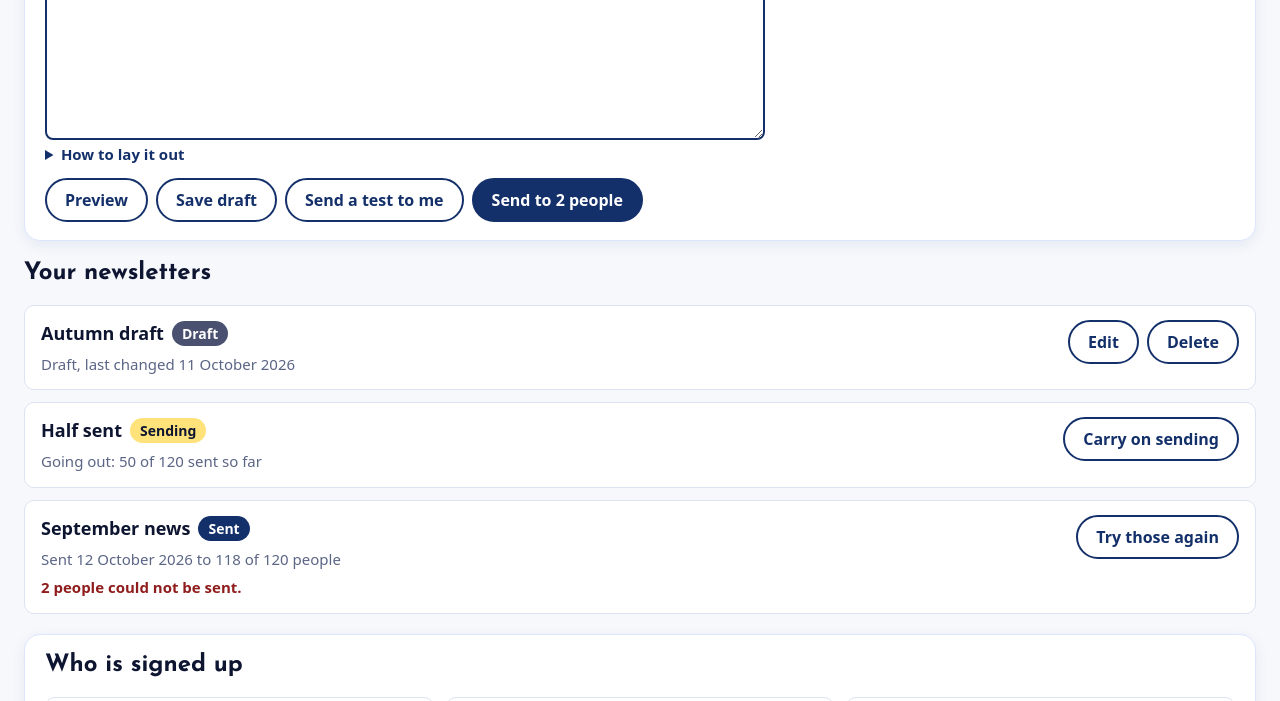
Test case: your newsletters › deletes a draft only after asking, and clears the form if it was open there
The image size is (1280, 701).
(page scrolled)
Click the button with aria-label "Edit the draft Autumn draft" at (1103, 342), box [1068,320,1139,364]
(page scrolled)
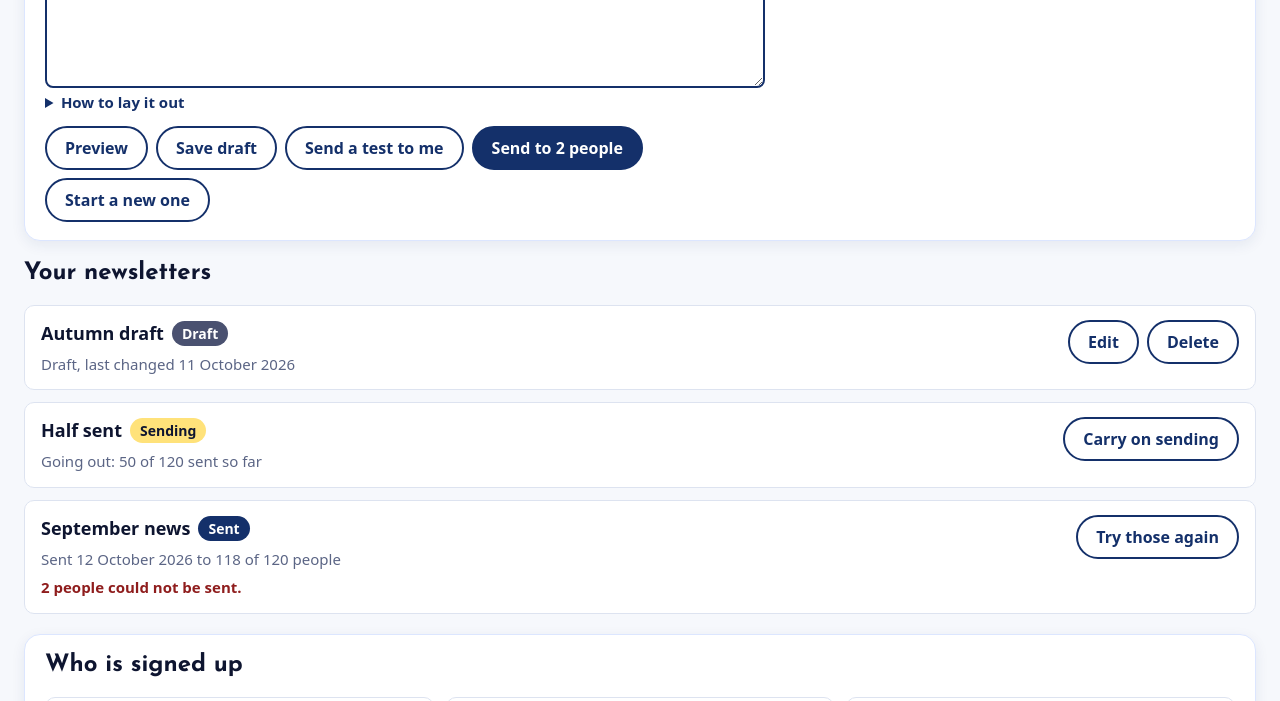
Click the button with aria-label "Delete the draft Autumn draft" at (1193, 342), box [1147,320,1239,364]
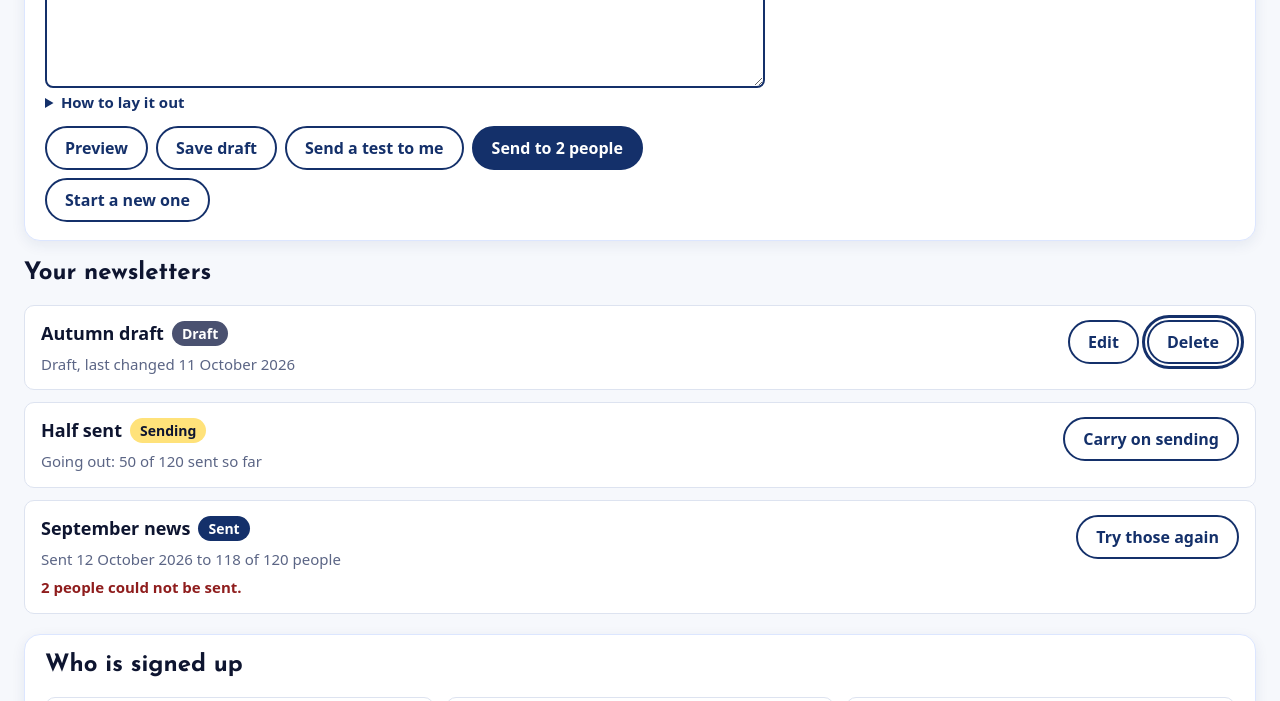
Click the button with aria-label "Delete the draft Autumn draft" at (1193, 342), box [1147,320,1239,364]
(page scrolled)
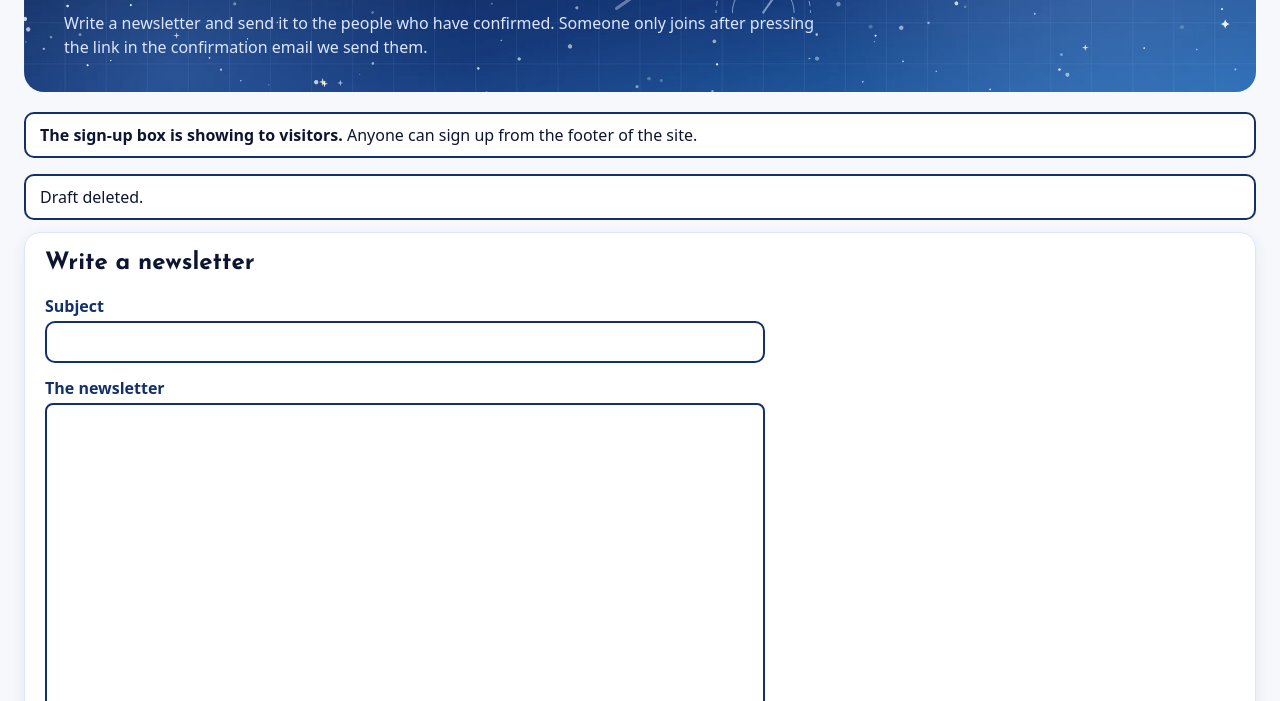
Expected: the text "Autumn draft" is gone
Expected: the field labelled "Subject" is empty, [45,321,765,363]
